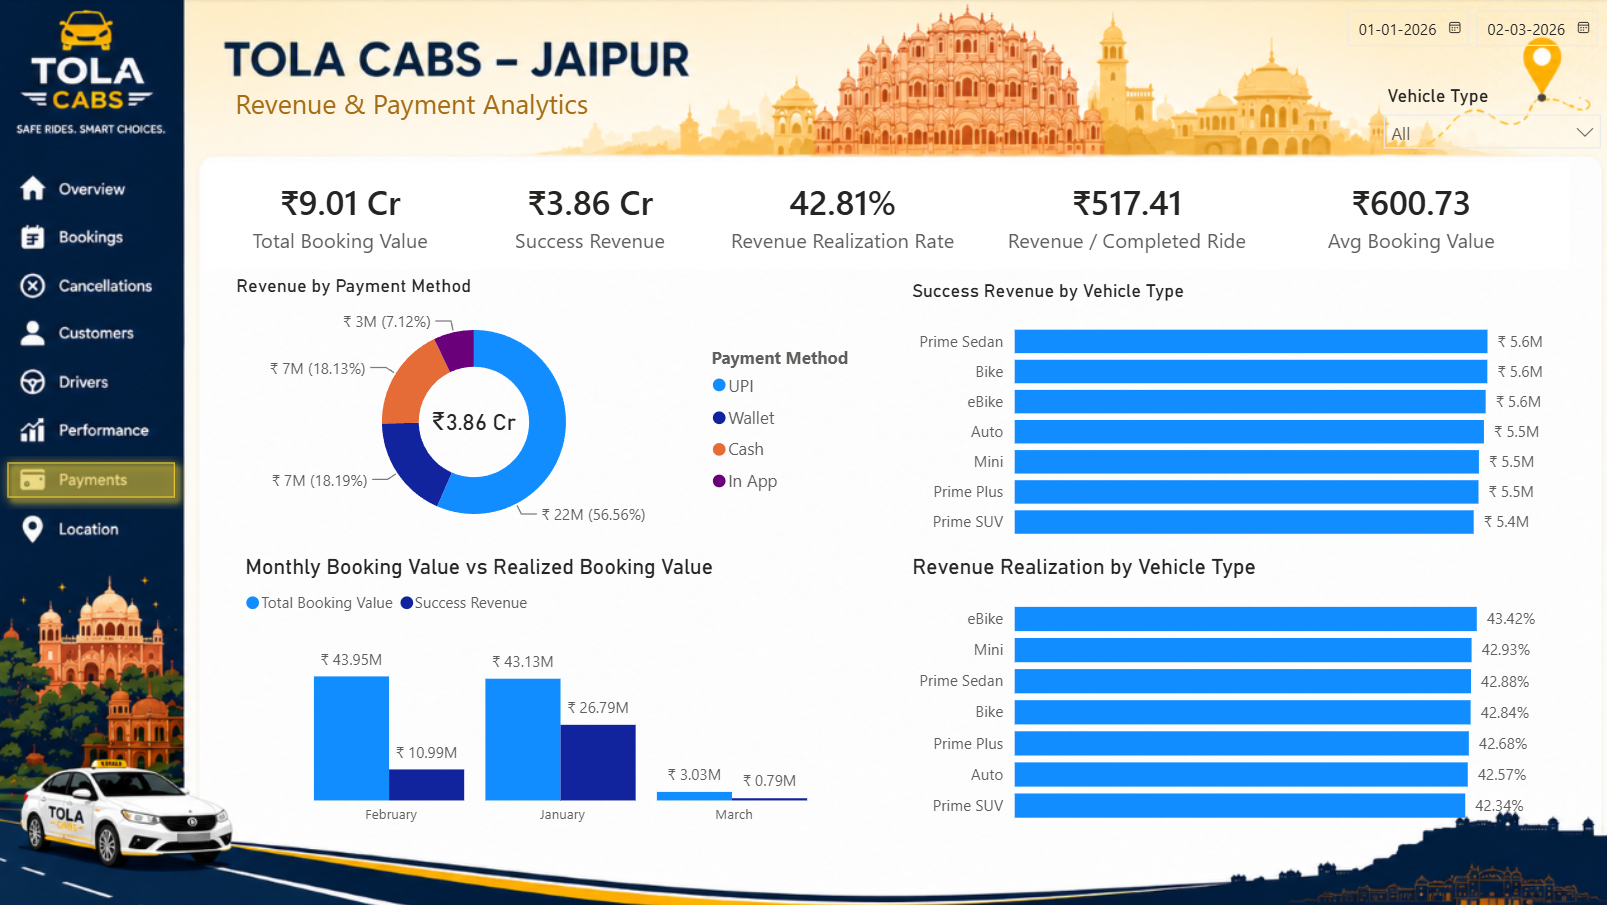

What the dashboard file says about the page in this screenshot:
{"tool":"powerbi","page":{"name":"07_Payments","canvas":[1280,720],"ordinal":6},"visuals":[{"type":"shape","box":[0,358.2,150.6,45.9],"z":0},{"type":"actionButton","box":[0,401.1,150.6,42.9],"z":1000},{"type":"actionButton","box":[1.2,326.4,149.8,39.5],"z":2000},{"type":"actionButton","box":[0,286.9,149.8,39.5],"z":3000},{"type":"actionButton","box":[1.2,247.4,149.8,39.5],"z":4000},{"type":"actionButton","box":[2.3,126.6,149.8,39.5],"z":5000},{"type":"actionButton","box":[1.2,210.2,149.8,39.5],"z":6000},{"type":"actionButton","box":[0,170.7,149.8,39.5],"z":7000},{"type":"slicer","fields":{"Values":["tola bookings.Vehicle_Type"]},"box":[1088,64,192,64],"z":8000},{"type":"slicer","fields":{"Values":["Calendar.Date"]},"box":[1056,0,219.5,69.7],"z":9000},{"type":"cardVisual","fields":{"Data":["_Measures.Total Booking Value Display"]},"box":[160,125,225,95],"z":10000},{"type":"cardVisual","fields":{"Data":["_Measures.Success Revenue Display"]},"box":[360,125,220,95],"z":11000},{"type":"cardVisual","fields":{"Data":["_Measures.Revenue Realization Rate"]},"box":[550,125,240,95],"z":12000},{"type":"cardVisual","fields":{"Data":["_Measures.Revenue per Completed Ride Display"]},"box":[770,125,250,95],"z":13000},{"type":"cardVisual","fields":{"Data":["_Measures.Avg Booking Value Display"]},"box":[990,125,260,95],"z":14000},{"type":"donutChart","title":"Revenue by Payment Method","fields":{"Category":["tola bookings.Payment_Method"],"Y":["_Measures.Success Revenue"]},"box":[185,220,510,215],"z":15000},{"type":"clusteredBarChart","title":"Success Revenue by Vehicle Type","fields":{"Category":["tola bookings.Vehicle_Type"],"Y":["_Measures.Success Revenue"]},"box":[720,224,510,215],"z":16000},{"type":"clusteredColumnChart","title":"Monthly Booking Value vs Realized Booking Value","fields":{"Category":["tola bookings.Month"],"Y":["_Measures.Total Booking Value","_Measures.Success Revenue"]},"box":[192,440,512,224],"z":17000},{"type":"barChart","title":"Revenue Realization by Vehicle Type","fields":{"Category":["tola bookings.Vehicle_Type"],"Y":["_Measures.Revenue Realization Rate"]},"box":[720,440,512,224],"z":18000},{"type":"textbox","box":[184,64,488,48],"z":18001}]}

Visuals, with their boxes on the page's 1280x720 design canvas (x1, y1, x2, y2). These are canvas units, not pixel positions in the 1607x905 screenshot, which may show the page scaled, cropped or inside an application window:
shape: <bbox>0, 358, 151, 404</bbox>
actionButton: <bbox>0, 401, 151, 444</bbox>
actionButton: <bbox>1, 326, 151, 366</bbox>
actionButton: <bbox>0, 287, 150, 326</bbox>
actionButton: <bbox>1, 247, 151, 287</bbox>
actionButton: <bbox>2, 127, 152, 166</bbox>
actionButton: <bbox>1, 210, 151, 250</bbox>
actionButton: <bbox>0, 171, 150, 210</bbox>
slicer - tola bookings.Vehicle_Type: <bbox>1088, 64, 1280, 128</bbox>
slicer - Calendar.Date: <bbox>1056, 0, 1276, 70</bbox>
cardVisual - _Measures.Total Booking Value Display: <bbox>160, 125, 385, 220</bbox>
cardVisual - _Measures.Success Revenue Display: <bbox>360, 125, 580, 220</bbox>
cardVisual - _Measures.Revenue Realization Rate: <bbox>550, 125, 790, 220</bbox>
cardVisual - _Measures.Revenue per Completed Ride Display: <bbox>770, 125, 1020, 220</bbox>
cardVisual - _Measures.Avg Booking Value Display: <bbox>990, 125, 1250, 220</bbox>
"Revenue by Payment Method" donutChart: <bbox>185, 220, 695, 435</bbox>
"Success Revenue by Vehicle Type" clusteredBarChart: <bbox>720, 224, 1230, 439</bbox>
"Monthly Booking Value vs Realized Booking Value" clusteredColumnChart: <bbox>192, 440, 704, 664</bbox>
"Revenue Realization by Vehicle Type" barChart: <bbox>720, 440, 1232, 664</bbox>
textbox: <bbox>184, 64, 672, 112</bbox>
